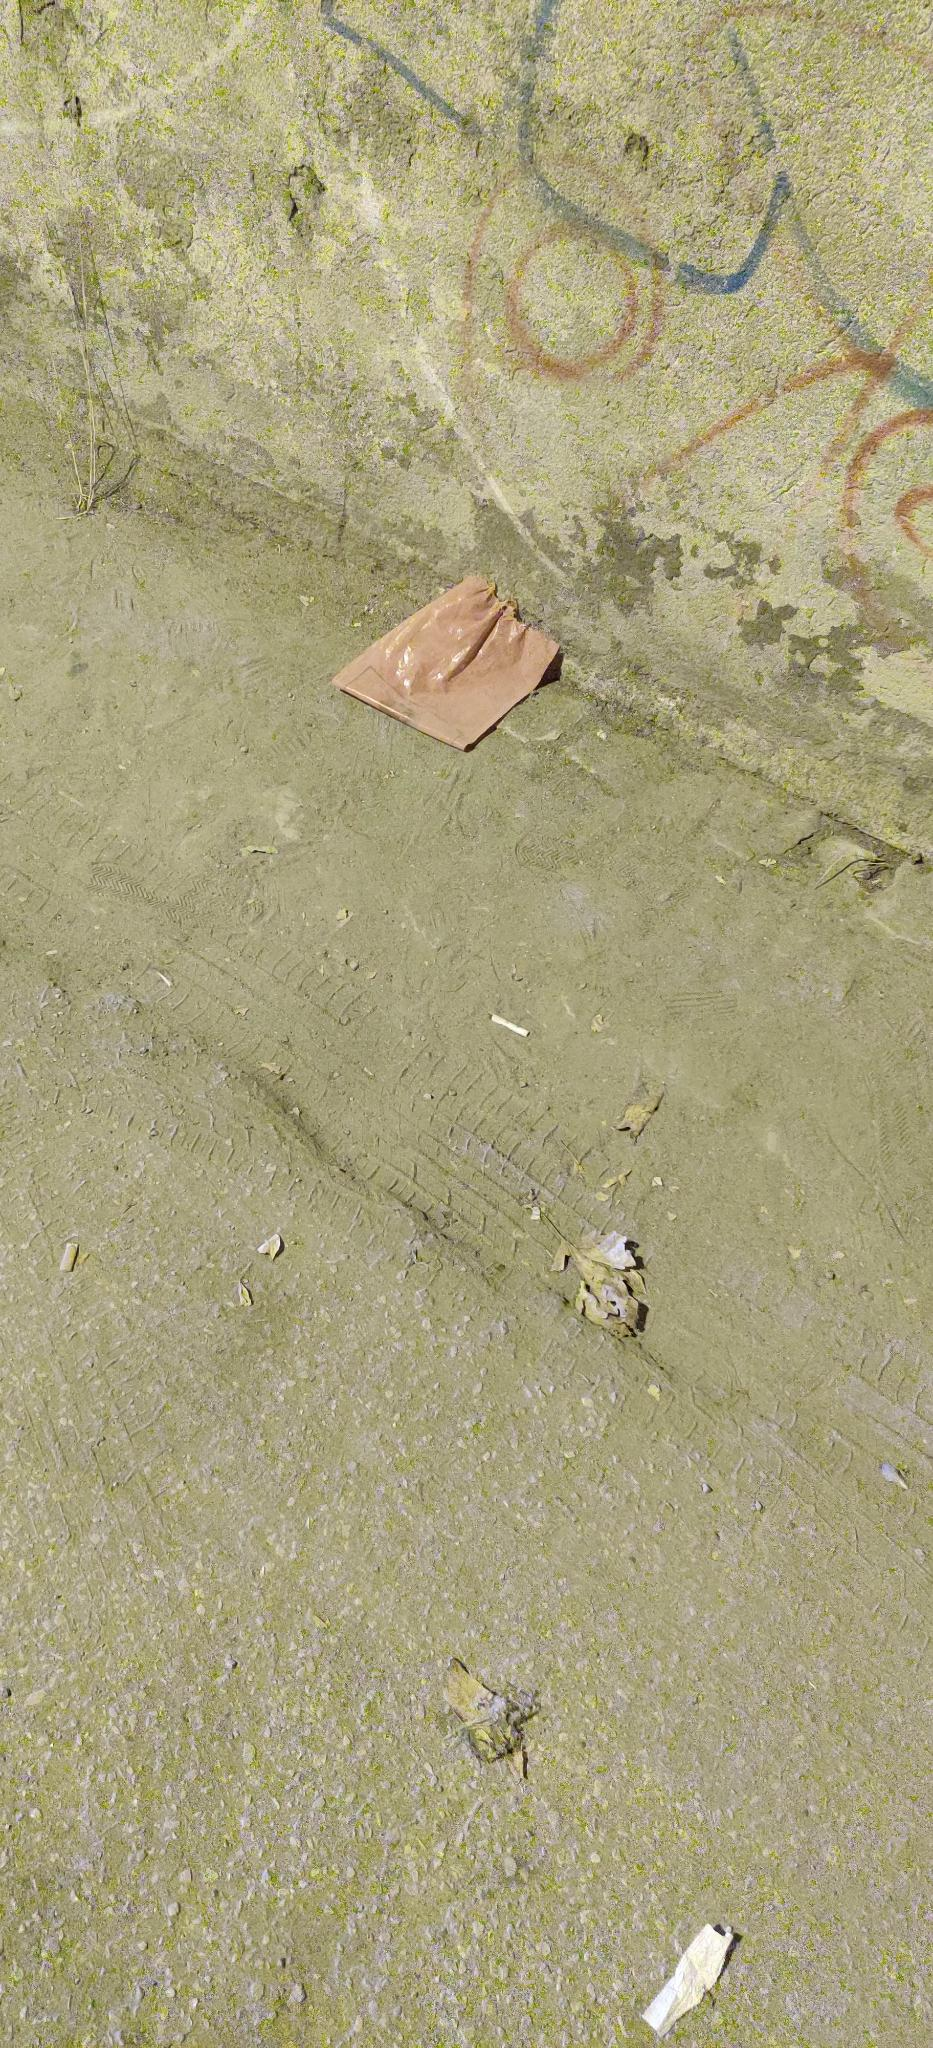Plastic: (321, 562, 567, 758)
Trash: (631, 1912, 744, 2040)
